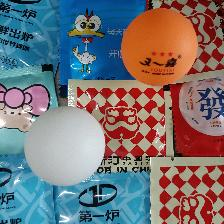WhiteBall: (23, 105, 104, 186)
YellowBall: (120, 8, 197, 86)
